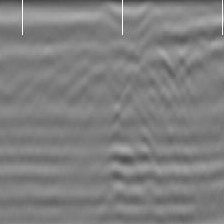Utility: (121, 35, 202, 106)
